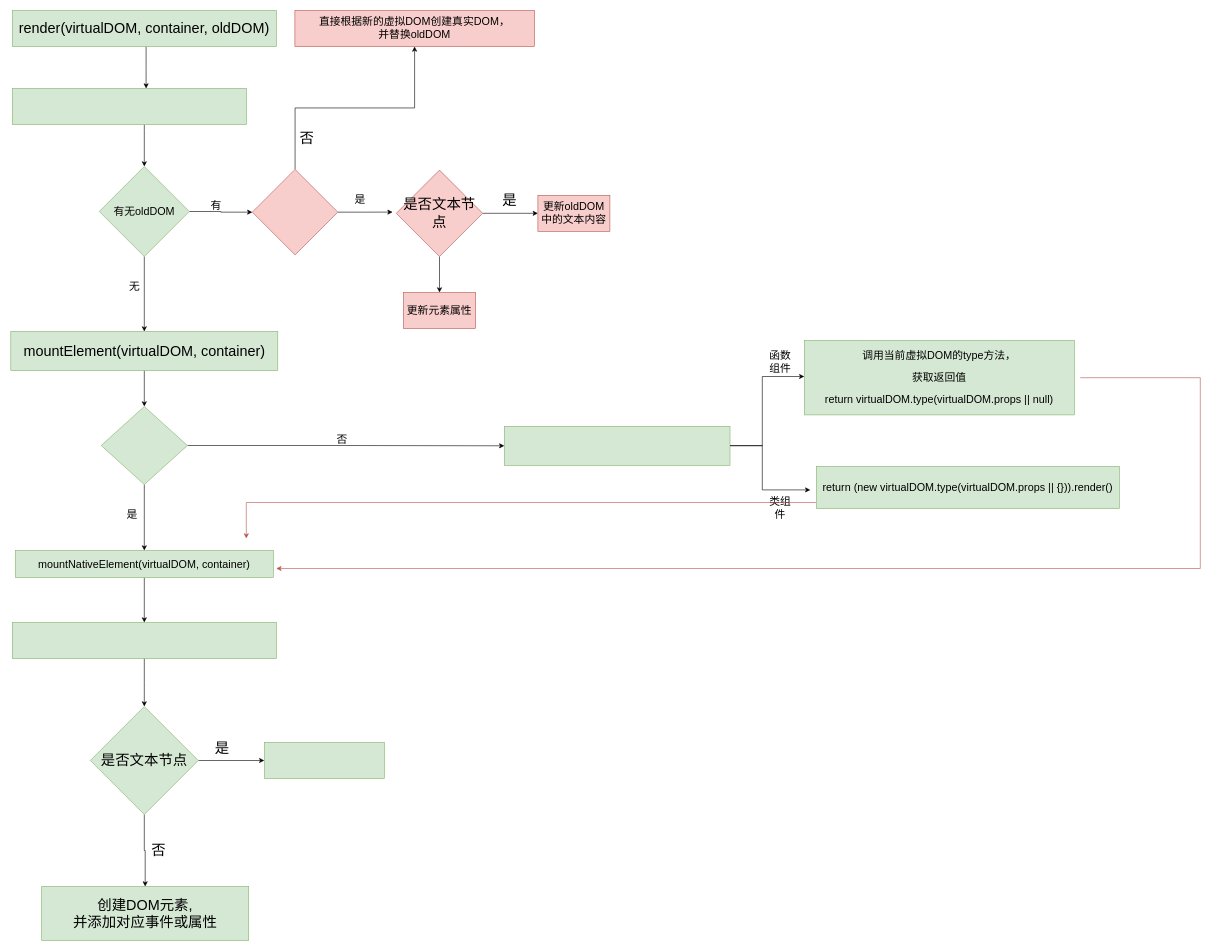
Some shapes in this 1216 by 951 pixel diagram are drawn without their labels. The box of each missing label's shape, as (x1, y1, x2, y2) in pixels:
createDOMElement(virtualDOM): newDOM: (12, 622, 276, 658)
diff(virtualDOM, container, oldDOM): (12, 88, 246, 124)
mountComponent(virtualDOM, container): (504, 426, 730, 465)
创建文本元素: (264, 742, 384, 778)
是否原生组件: (101, 406, 187, 484)
组件类型是否相同: (252, 169, 338, 255)
